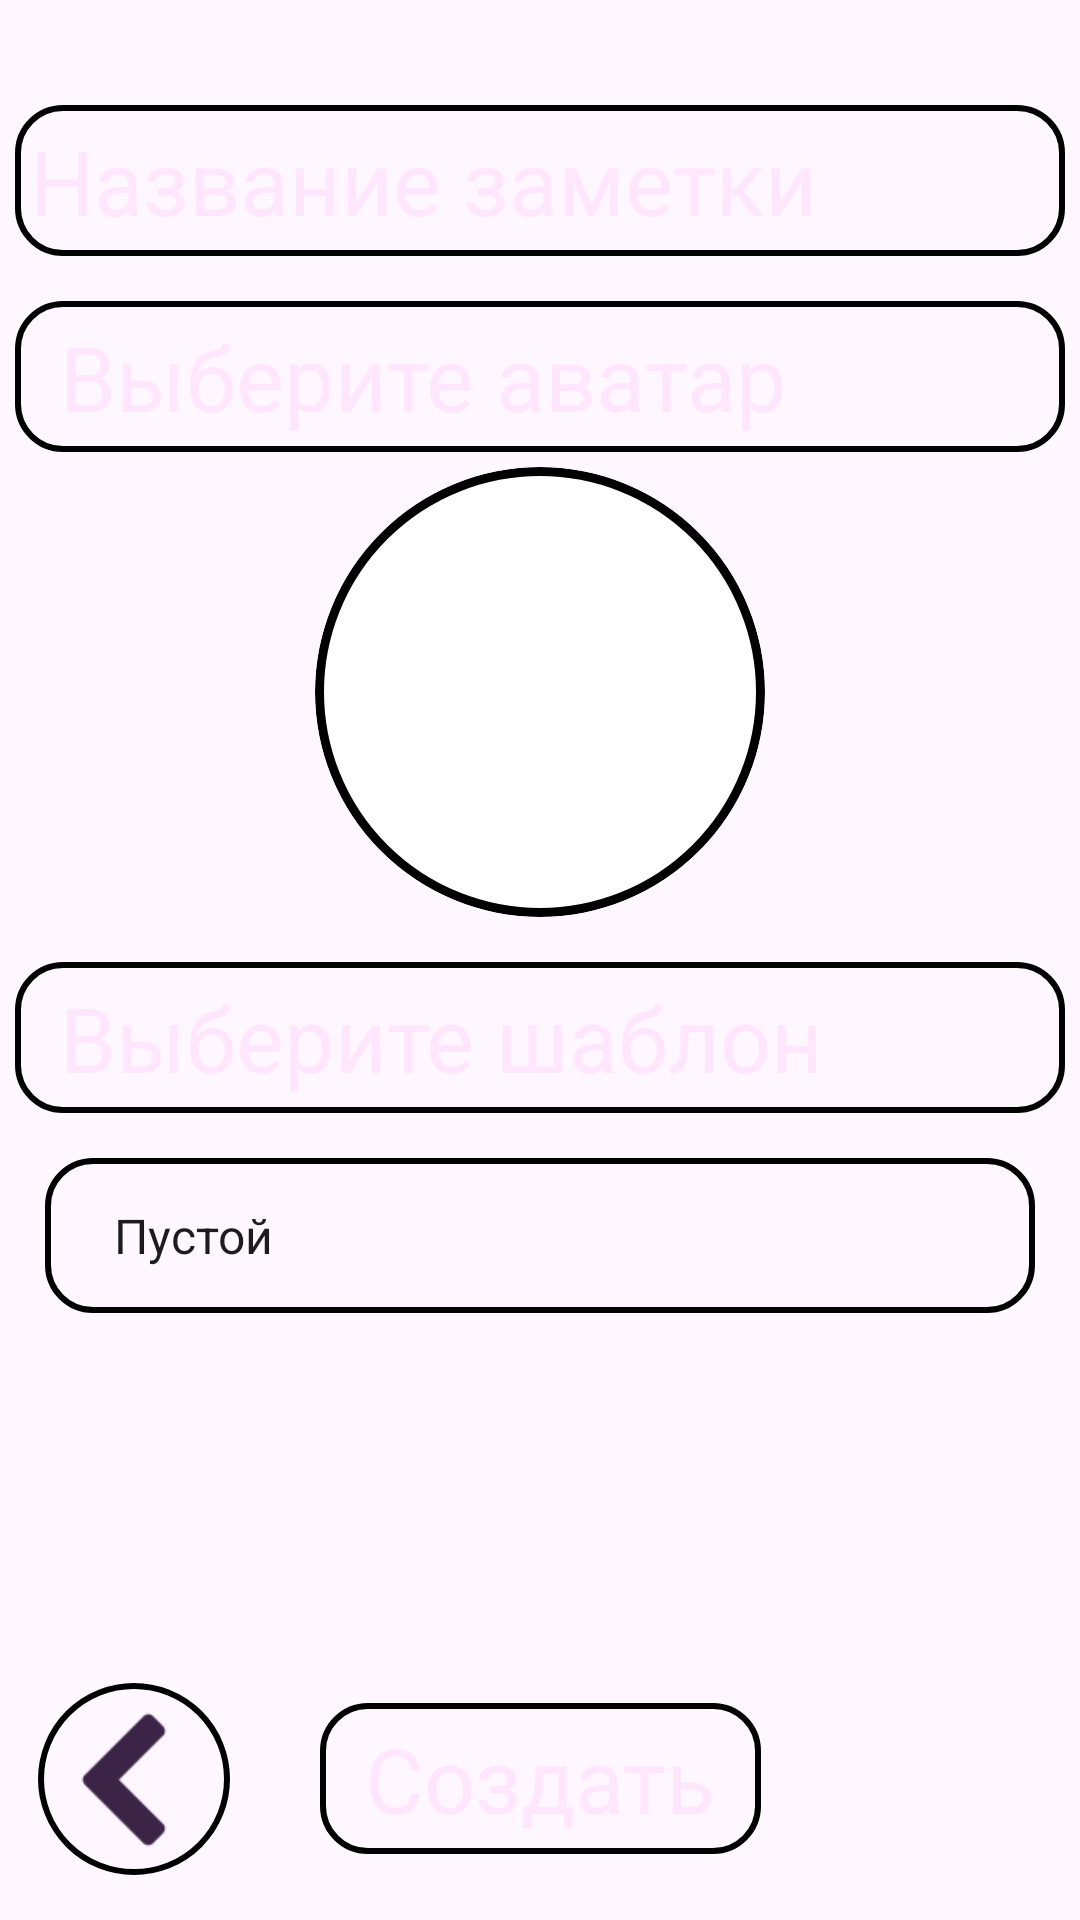

Icon bounding boxes for this 1080 x 1920 phone screenshot, format bbox=(x1, y1, x2, y2):
back: bbox=(38, 1683, 230, 1875)
